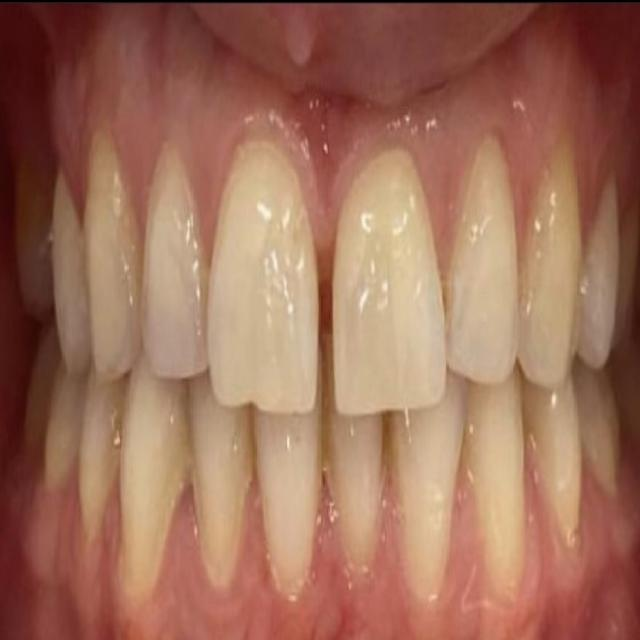tooth: (204, 133, 322, 409), (328, 147, 448, 416), (450, 132, 521, 384), (463, 396, 533, 602), (520, 154, 580, 386), (82, 150, 142, 378), (252, 415, 324, 596), (148, 154, 204, 378), (188, 391, 250, 575), (127, 387, 185, 568), (394, 429, 458, 574), (322, 413, 389, 550), (50, 172, 89, 354), (76, 366, 118, 524), (539, 391, 580, 530)
